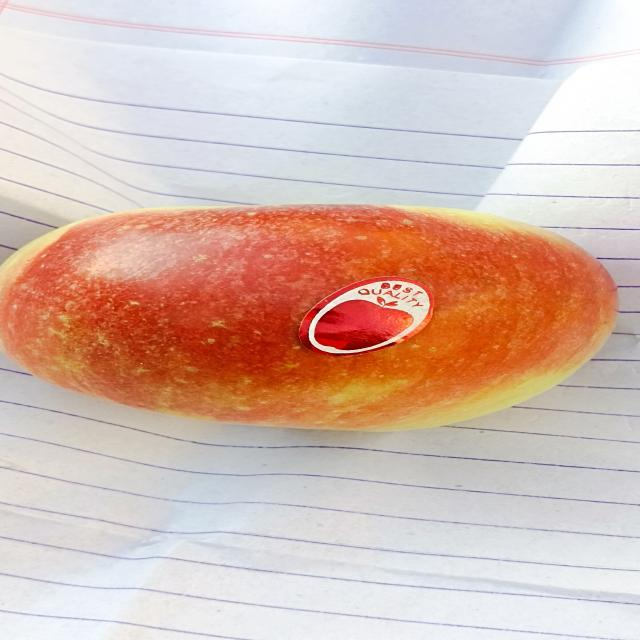Fresh Apple: (10, 202, 617, 455)
